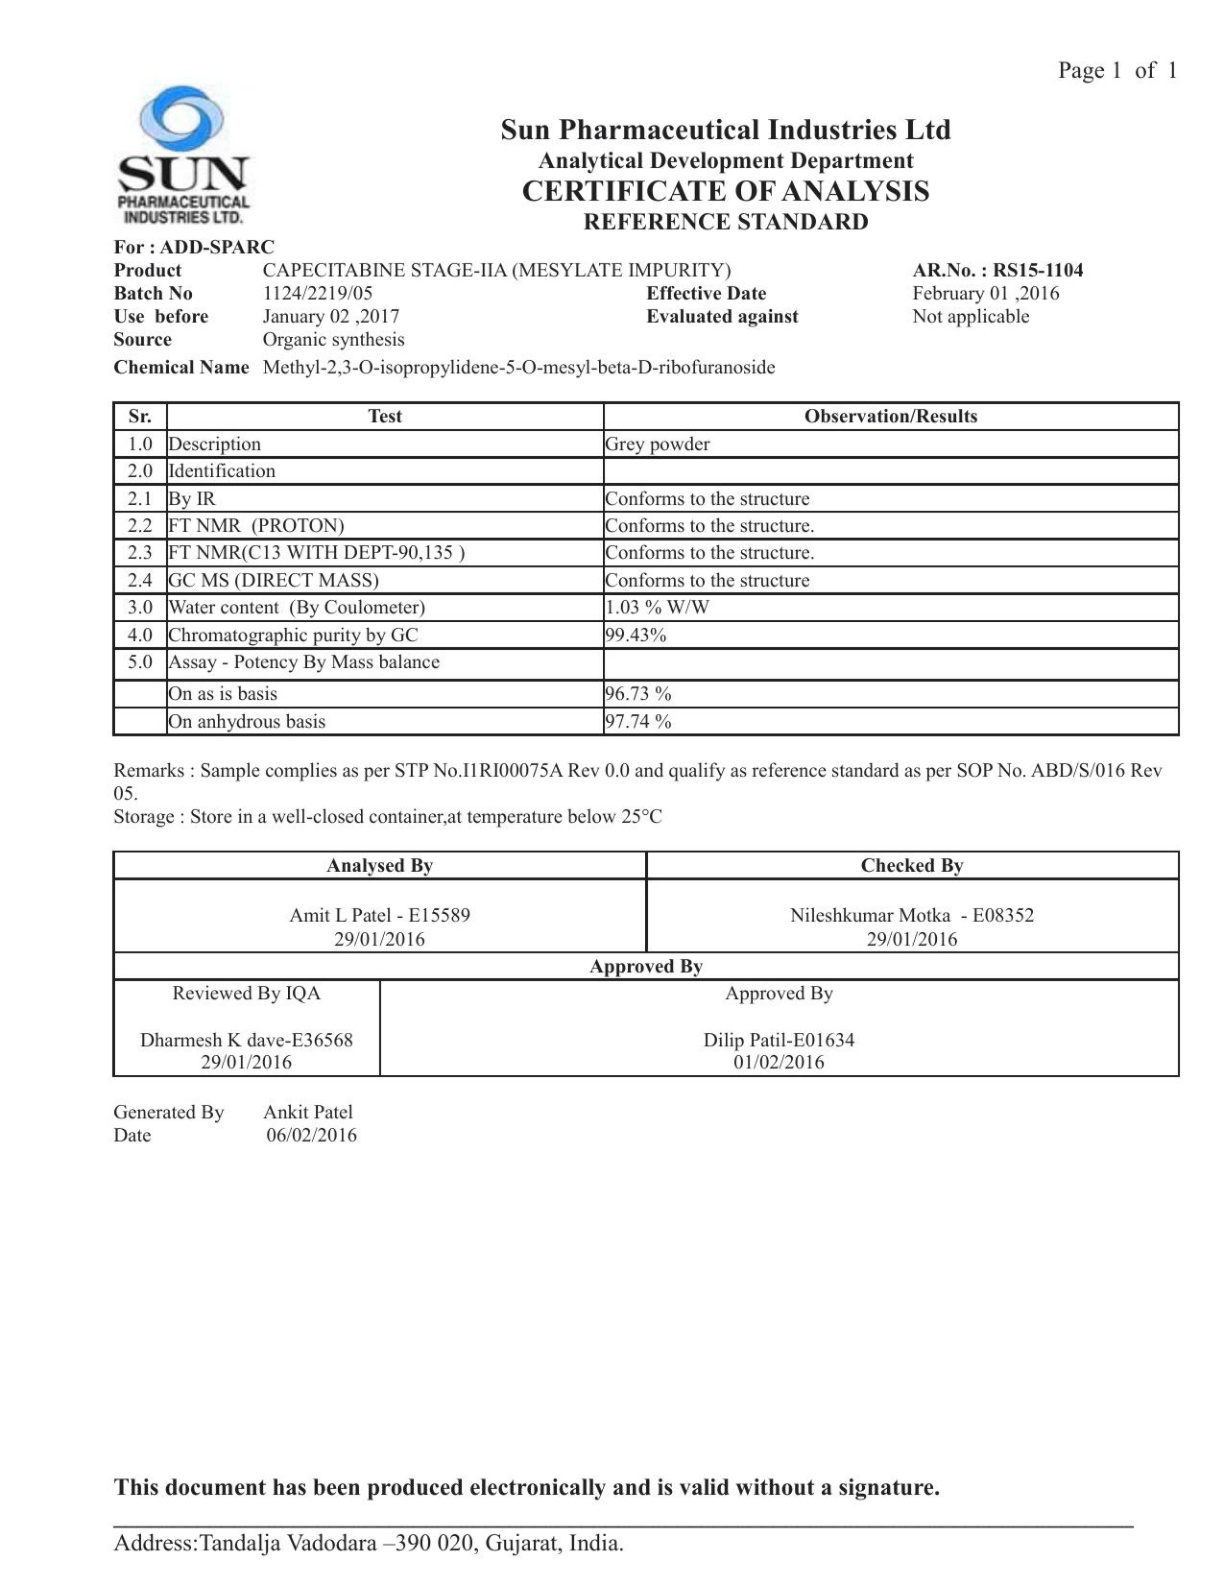full_lined: (111, 400, 1182, 737)
merged_cells: (111, 850, 1182, 1079)
